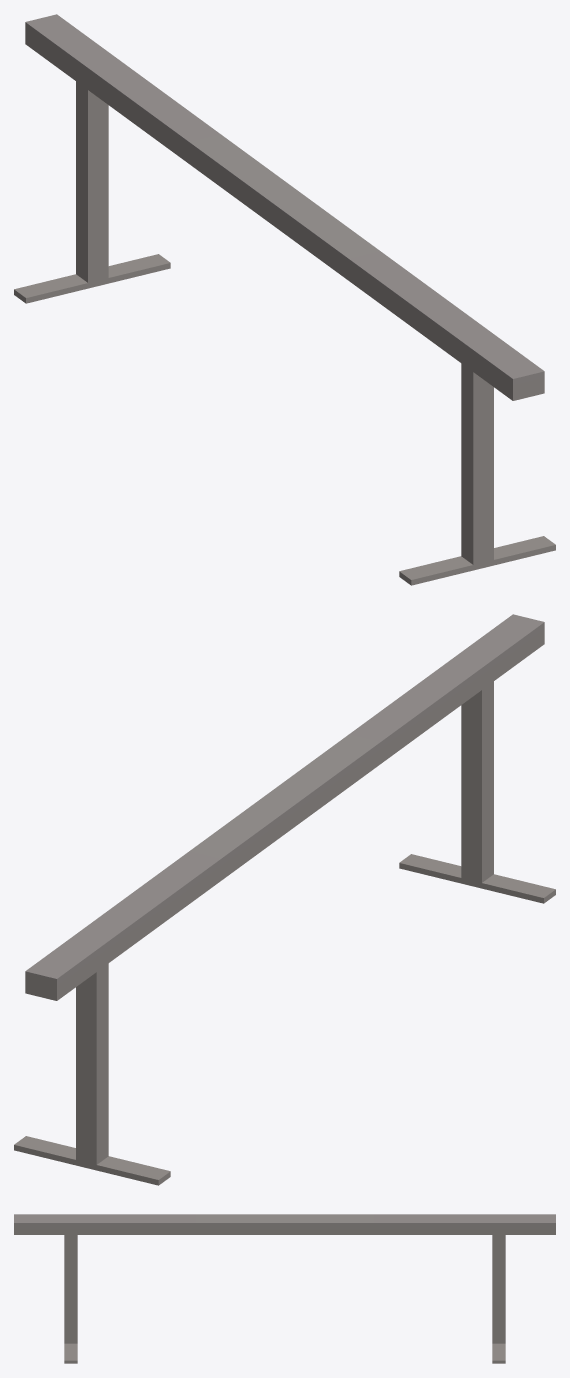
File: SkateboardHighrail.glb
3 views of the same model, one above another, from view 1: azimuth 30°, elevation 25°; view 2: azimuth 150°, elevation 25°; view 3: azimuth 270°, elevation 25° (orthographic). The views are drawn at different scales.
Visible parts, largest first — view 1: SkateboardHighrail; view 2: SkateboardHighrail; view 3: SkateboardHighrail.
Boxes of the visible parts, x1,y1,x2,y2 form: SkateboardHighrail: [14, 14, 555, 585]; SkateboardHighrail: [14, 614, 555, 1185]; SkateboardHighrail: [14, 1214, 555, 1363].
Size of the model in its own units: 0.6852 by 1.02 by 4.
1 material, 1 textured.
